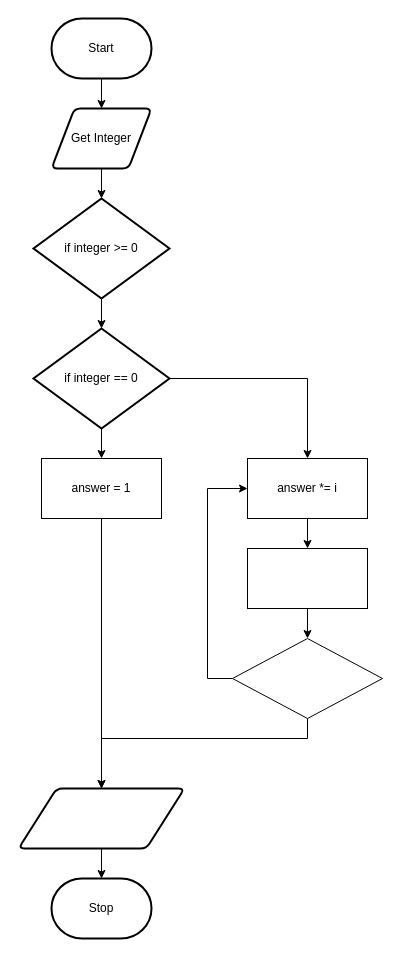
Some shapes in this 400 by 956 pixel diagram are drawn without their labels. Each missing label, with the box of its shape:
Display answer: (17, 787, 185, 849)
i += 1: (246, 548, 368, 608)
while (integer >= i): (232, 638, 382, 718)
